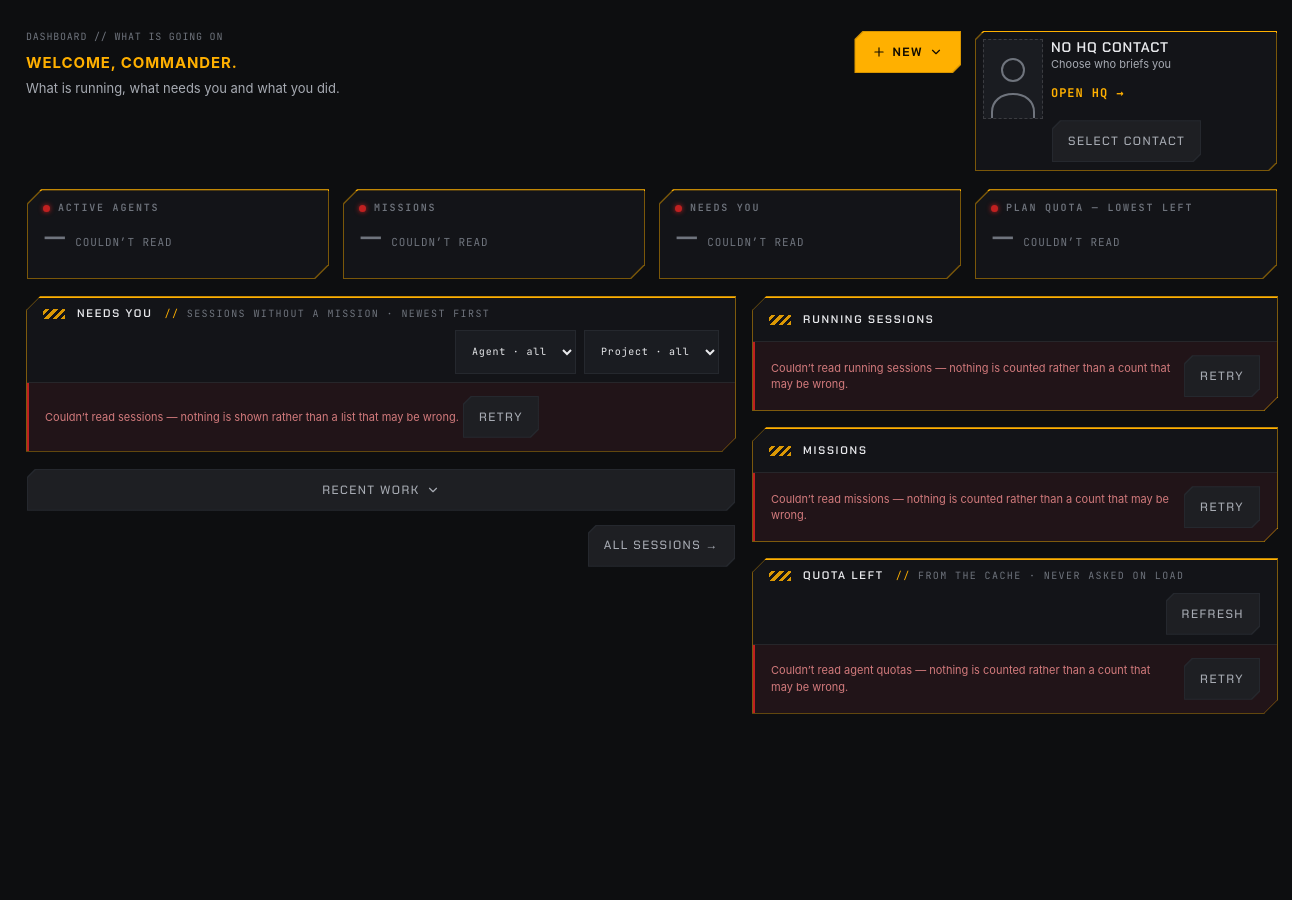
Scenario: Off: a placeholder with Open HQ and Select contact, no face and no media (#1525)
The width and height of the screenshot is (1292, 900).
Check: the element with test id "hq-primary-contact" shows "No HQ contact", box [1051,38,1169,56]
Check: the icon with test id "hq-silhouette" is shown, box [984,40,1042,118]
Step 1. Click the button "Open HQ →" → (1088, 93), box [1047,71,1128,115]
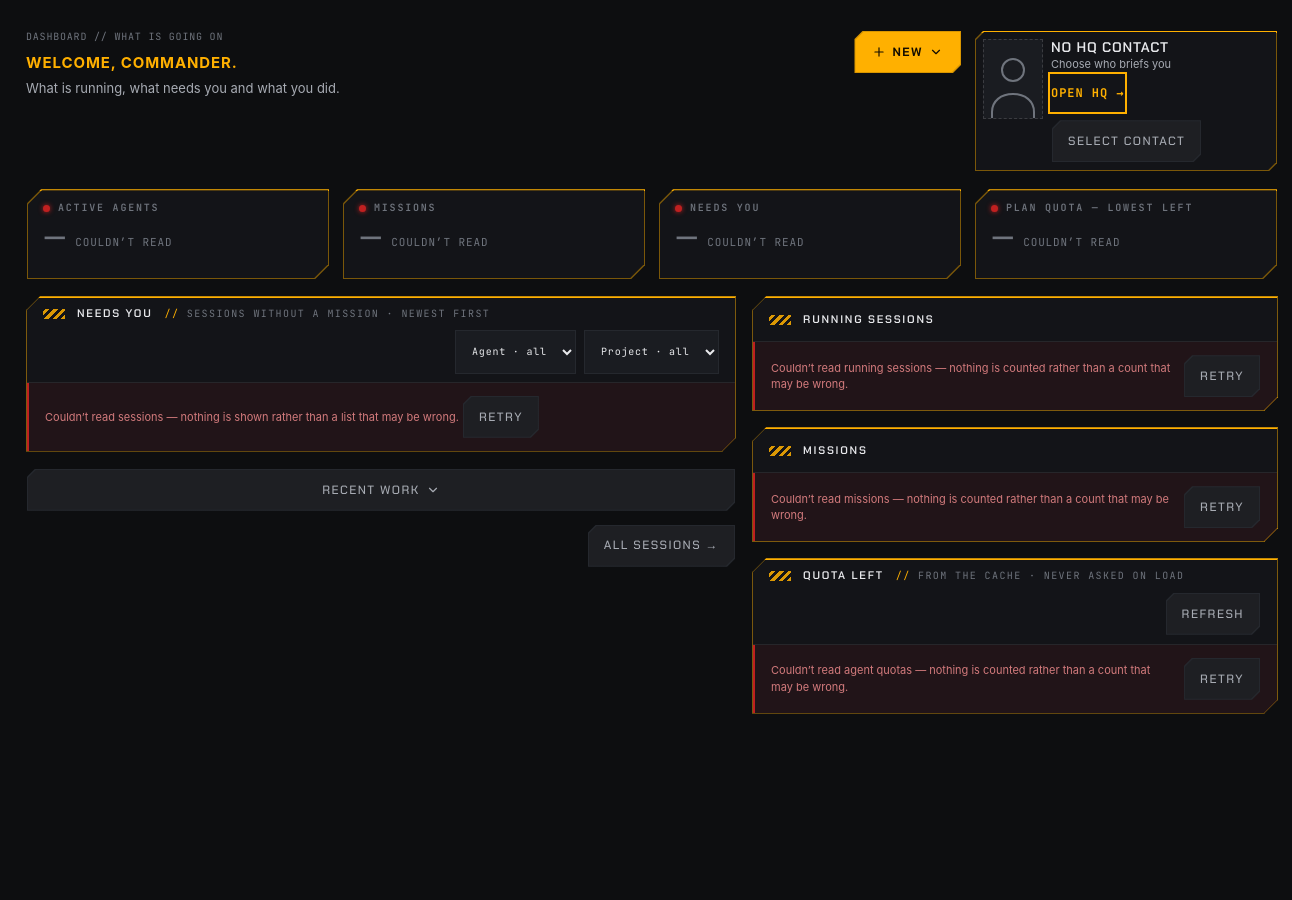
Step 2. Click the link "Select contact" → (1127, 141), box [1068,133,1185,149]
(page scrolled)
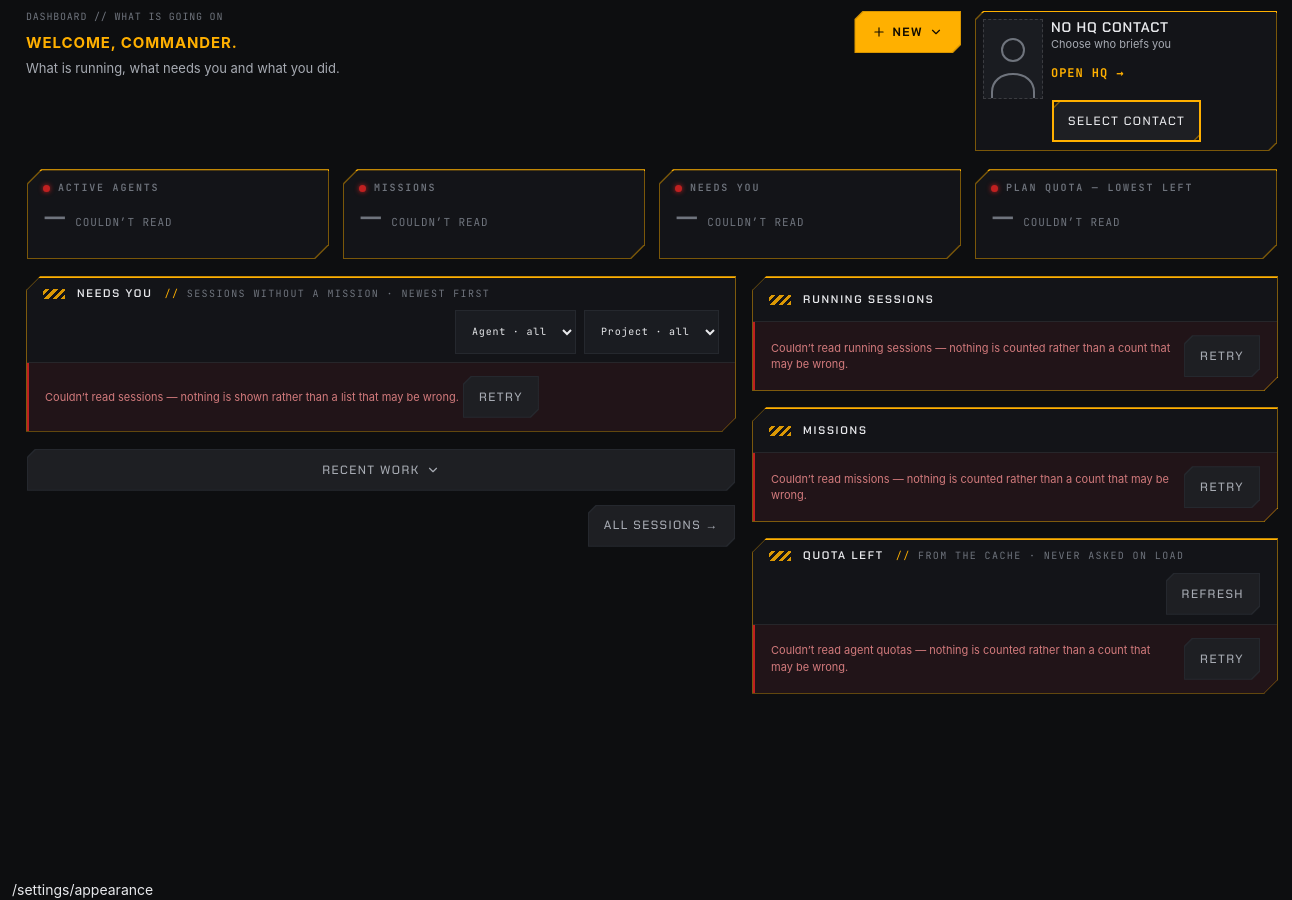
Check: the text with test id "where" reads "/settings/appearance", box [12,881,153,898]
